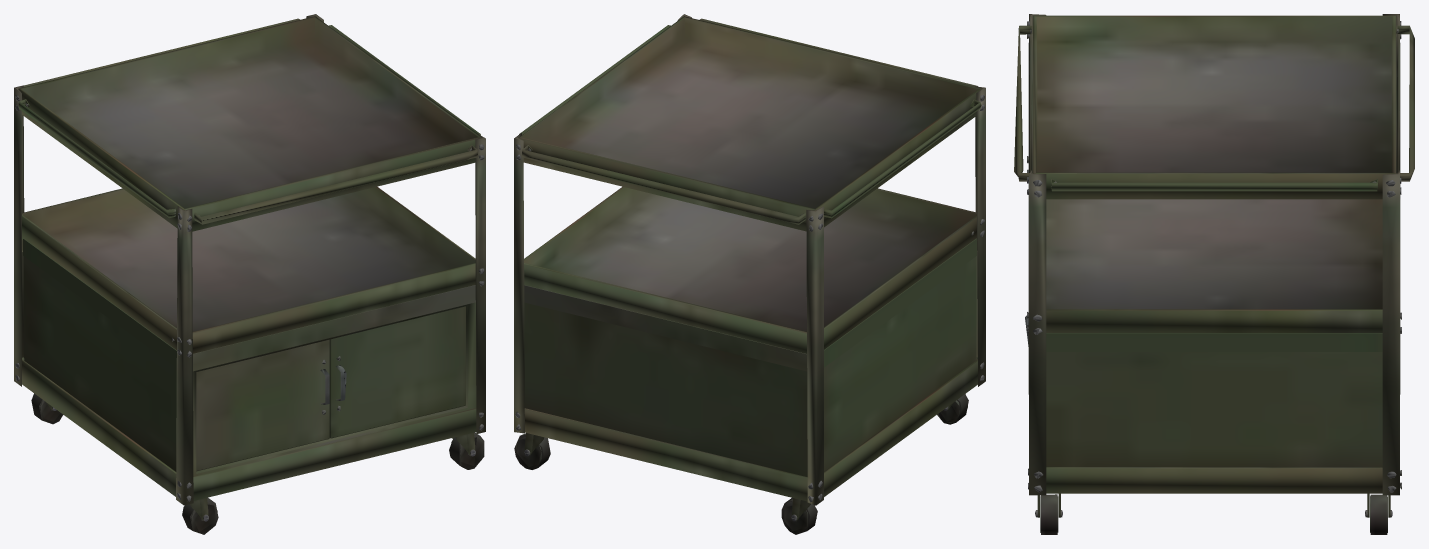
The model's file is ph-industrial-storage-cart.glb.
3 views of the same model, side by side, from view 1: azimuth 30°, elevation 25°; view 2: azimuth 150°, elevation 25°; view 3: azimuth 270°, elevation 25° (orthographic). The views are drawn at different scales.
Parts seen in each view (by area): view 1: industrial_storage_cart; view 2: industrial_storage_cart; view 3: industrial_storage_cart.
Part boxes in pixels (bbox=[...]): industrial_storage_cart: bbox=[14, 14, 485, 534]; industrial_storage_cart: bbox=[514, 14, 985, 534]; industrial_storage_cart: bbox=[1014, 14, 1414, 534].
Bounding box in the file's own units: 0.9844 × 0.9995 × 0.9982.
Materials: 1 (1 with a texture image).
